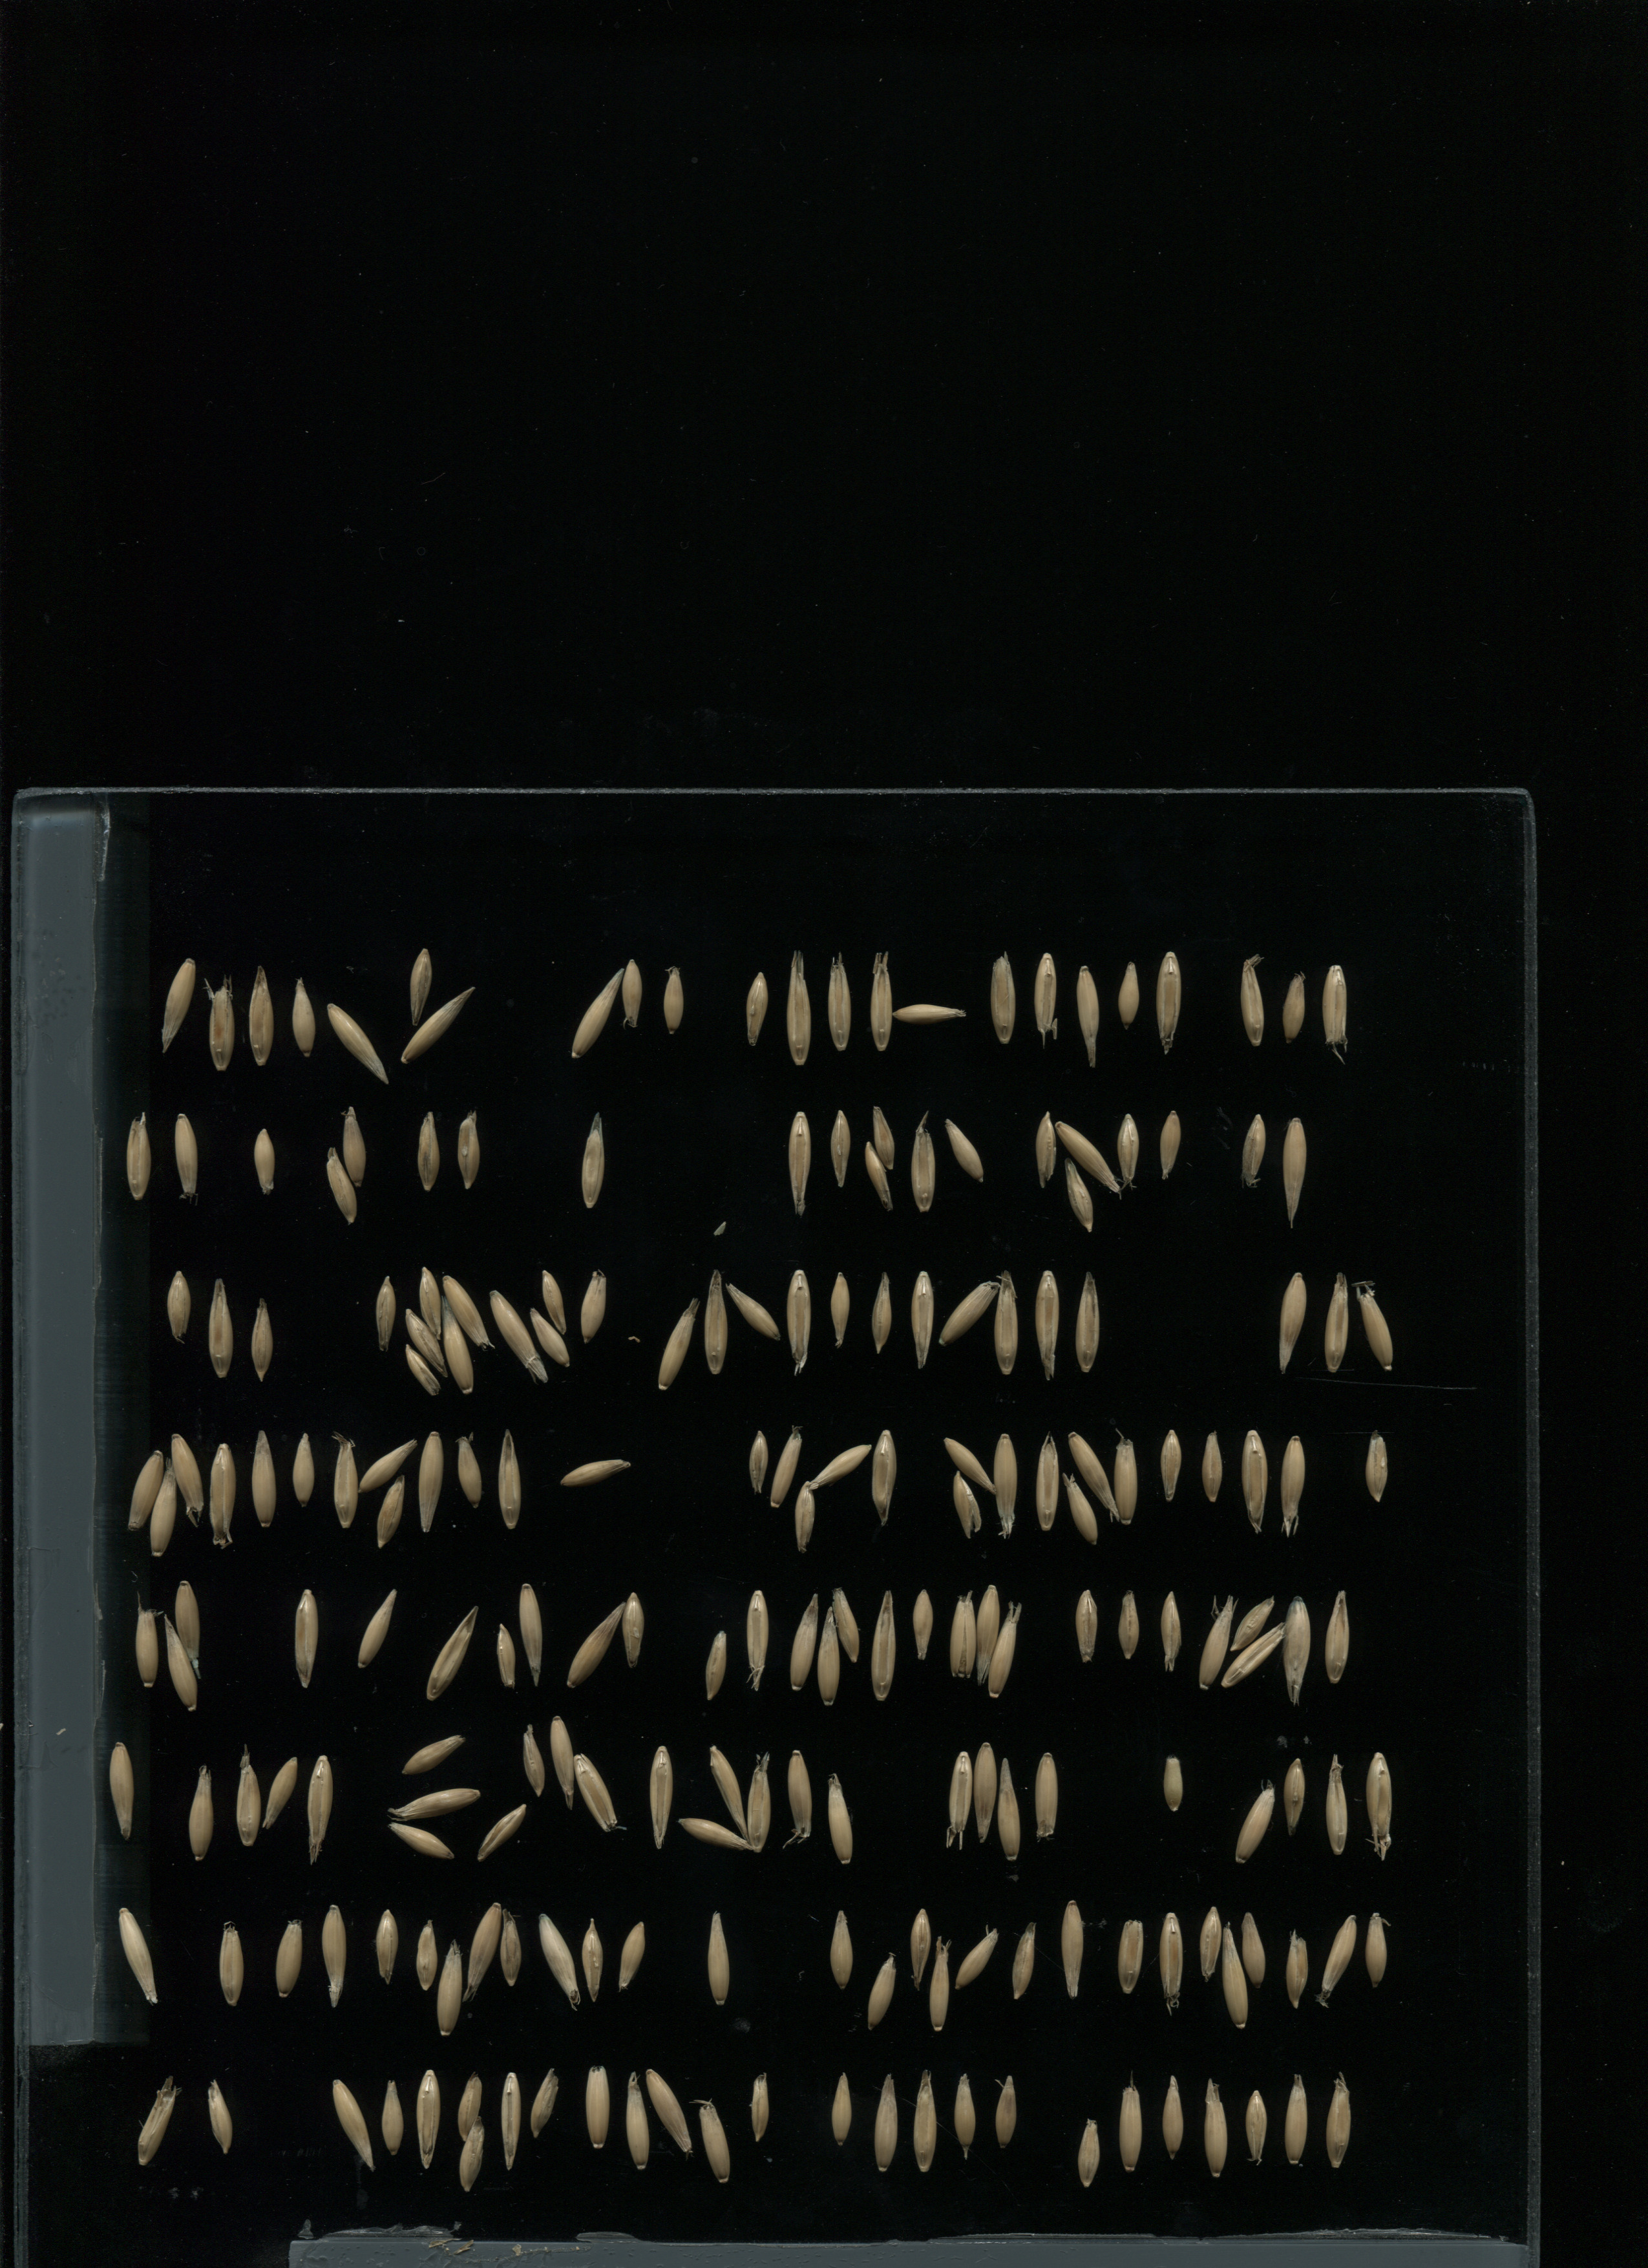NakedGrain: (1118, 958, 1139, 1030), (1284, 972, 1305, 1042), (1162, 1757, 1185, 1812)
WholeGrain: (398, 984, 477, 1065), (488, 1289, 548, 1386), (565, 1597, 627, 1689), (423, 1602, 479, 1701), (326, 1000, 391, 1085), (569, 967, 623, 1062), (1055, 1120, 1120, 1197), (1067, 1430, 1118, 1520), (708, 1743, 752, 1847), (1220, 1622, 1289, 1687), (657, 1296, 701, 1395), (535, 1911, 579, 2009), (644, 2067, 694, 2155), (116, 1907, 158, 2009), (940, 1277, 1000, 1347), (1197, 1590, 1238, 1692), (782, 1102, 817, 1219), (442, 1273, 493, 1352), (1352, 1278, 1394, 1373), (160, 1611, 199, 1713), (331, 2078, 373, 2171), (785, 946, 817, 1069), (136, 2074, 178, 2166), (572, 1752, 618, 1835), (354, 1437, 421, 1493), (162, 951, 197, 1057), (1317, 1912, 1356, 2006), (202, 976, 239, 1072), (305, 1754, 336, 1867), (465, 1902, 502, 1997), (1232, 1786, 1276, 1865), (784, 1264, 813, 1379), (724, 1284, 782, 1342), (940, 1433, 998, 1491), (356, 1587, 396, 1669), (944, 1115, 990, 1187), (440, 1296, 474, 1395), (694, 2099, 732, 2183), (805, 1442, 873, 1490), (127, 1444, 164, 1532), (988, 1602, 1021, 1699), (518, 1581, 548, 1689), (1240, 1426, 1269, 1534), (320, 1145, 359, 1227), (1276, 1271, 1308, 1372), (870, 1588, 898, 1701), (416, 1428, 445, 1534), (1220, 1925, 1250, 2030), (986, 947, 1018, 1046), (171, 1433, 204, 1527), (972, 1583, 1002, 1687), (1284, 1595, 1312, 1705), (1365, 1750, 1393, 1859), (769, 1423, 805, 1509), (208, 1442, 236, 1550), (403, 1307, 447, 1375), (387, 1787, 482, 1819), (789, 1592, 819, 1692), (107, 1740, 137, 1840), (910, 1109, 938, 1215), (703, 1264, 729, 1377), (475, 1803, 528, 1859), (526, 1303, 570, 1370), (1062, 1470, 1100, 1546), (206, 1275, 234, 1379), (909, 1268, 937, 1372), (174, 1578, 202, 1682), (234, 1743, 262, 1847), (1278, 1432, 1306, 1535), (386, 1821, 458, 1861), (320, 1902, 347, 2009), (338, 1104, 372, 1189), (813, 1606, 842, 1706), (248, 963, 275, 1069), (331, 1439, 363, 1527), (954, 1926, 998, 1990), (945, 1750, 974, 1849), (1157, 1909, 1185, 2007), (828, 951, 854, 1055), (292, 1587, 319, 1690), (747, 1750, 773, 1854), (972, 1740, 998, 1844), (1203, 2074, 1229, 2178), (1231, 1594, 1276, 1653), (289, 974, 320, 1060), (261, 1756, 298, 1830), (676, 1815, 750, 1852), (435, 1940, 463, 2037), (579, 1109, 606, 1211), (250, 1426, 276, 1528), (1034, 1270, 1058, 1379), (171, 1111, 201, 1201), (824, 1106, 856, 1190), (859, 1138, 894, 1213), (625, 2071, 651, 2171), (1322, 1271, 1349, 1372), (648, 1743, 673, 1851), (912, 2067, 937, 2175), (993, 1433, 1018, 1539), (1060, 1900, 1086, 1999), (398, 1736, 465, 1775), (997, 1757, 1021, 1861), (416, 2067, 440, 2171), (870, 1430, 896, 1527), (549, 1715, 576, 1812), (926, 1937, 953, 2034), (1284, 1116, 1306, 1227), (1060, 1157, 1093, 1233), (949, 1588, 977, 1678), (826, 1775, 854, 1865), (273, 1918, 303, 2002), (1078, 965, 1102, 1067), (1074, 1271, 1099, 1373), (125, 1108, 151, 1203), (787, 1747, 813, 1842), (1034, 951, 1060, 1046), (995, 1270, 1018, 1379), (873, 2073, 898, 2173), (375, 1472, 407, 1550), (864, 1953, 896, 2030), (136, 1590, 160, 1689), (1035, 1433, 1060, 1532), (1324, 2071, 1349, 2169), (870, 947, 893, 1053), (528, 2066, 562, 2138), (708, 1911, 732, 2007), (1113, 1437, 1139, 1527), (498, 1426, 521, 1528), (1157, 951, 1180, 1053), (148, 1469, 174, 1557), (579, 1270, 609, 1347), (1324, 1590, 1349, 1683), (498, 2071, 521, 2171), (417, 1264, 445, 1345), (833, 1585, 861, 1666), (416, 1108, 442, 1194), (1322, 961, 1349, 1048), (250, 1123, 280, 1199), (1284, 2073, 1308, 2164), (829, 1909, 857, 1988), (585, 2064, 611, 2148), (1326, 1754, 1347, 1859), (188, 1764, 211, 1861), (1241, 953, 1264, 1049), (401, 1342, 440, 1398), (206, 2078, 234, 2155), (458, 2115, 486, 2192), (953, 1470, 984, 1539), (1120, 2085, 1144, 2173), (747, 1590, 768, 1692), (166, 1266, 194, 1342), (560, 1456, 630, 1486), (1035, 1750, 1058, 1842), (1282, 1757, 1308, 1837), (1011, 1921, 1037, 2000), (870, 1270, 894, 1354), (581, 1916, 606, 2000), (539, 1268, 569, 1337), (907, 1907, 931, 1990), (1162, 2073, 1185, 2161), (870, 1101, 896, 1176), (1074, 1587, 1100, 1662), (622, 1588, 646, 1669), (1118, 1918, 1143, 1999), (250, 1296, 273, 1382), (407, 944, 430, 1028), (458, 1108, 481, 1192), (829, 2069, 854, 2146), (1284, 1930, 1308, 2007), (703, 1629, 729, 1701), (618, 1919, 644, 1992), (375, 1907, 400, 1983), (1034, 1109, 1058, 1185), (1241, 1113, 1266, 1189), (1240, 1912, 1264, 1988), (521, 1727, 548, 1798), (1160, 1587, 1181, 1675), (458, 1432, 481, 1513), (910, 1588, 935, 1662), (956, 2074, 977, 2161), (373, 1273, 396, 1352), (458, 2073, 484, 2141), (222, 1923, 243, 2007), (664, 965, 688, 1037), (380, 2080, 403, 2157), (1366, 1432, 1391, 1502), (1116, 1590, 1141, 1660), (1076, 2117, 1100, 2187), (891, 1000, 967, 1023), (416, 1918, 438, 1993), (1201, 1428, 1224, 1504), (1365, 1912, 1387, 1988), (292, 1430, 313, 1511), (1159, 1106, 1181, 1180), (1245, 2090, 1268, 2164), (747, 970, 768, 1049), (829, 1270, 850, 1349), (1199, 1904, 1222, 1976), (792, 1483, 815, 1553), (495, 1622, 518, 1692), (622, 954, 643, 1030), (1160, 1426, 1181, 1502), (500, 1909, 519, 1986), (997, 2074, 1016, 2152), (747, 1428, 769, 1493), (750, 2073, 771, 2143), (1118, 1111, 1137, 1187)
